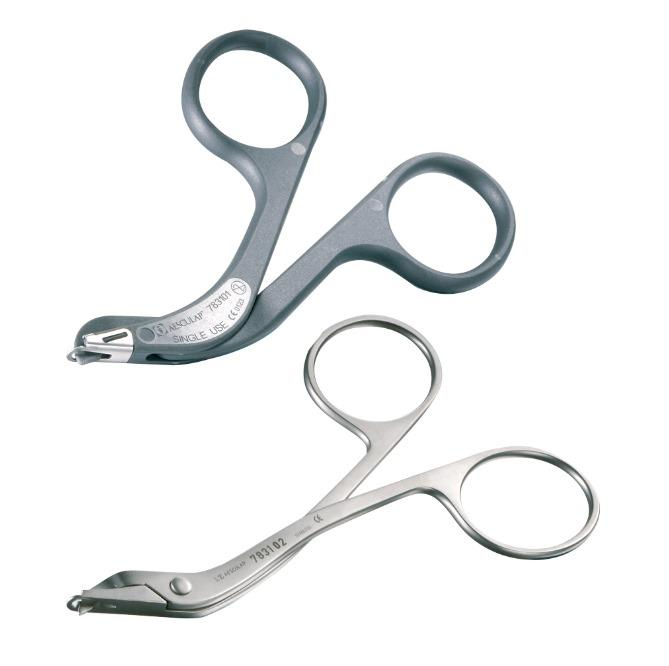Stapler Remover: (69, 305, 603, 621), (58, 19, 523, 368)
